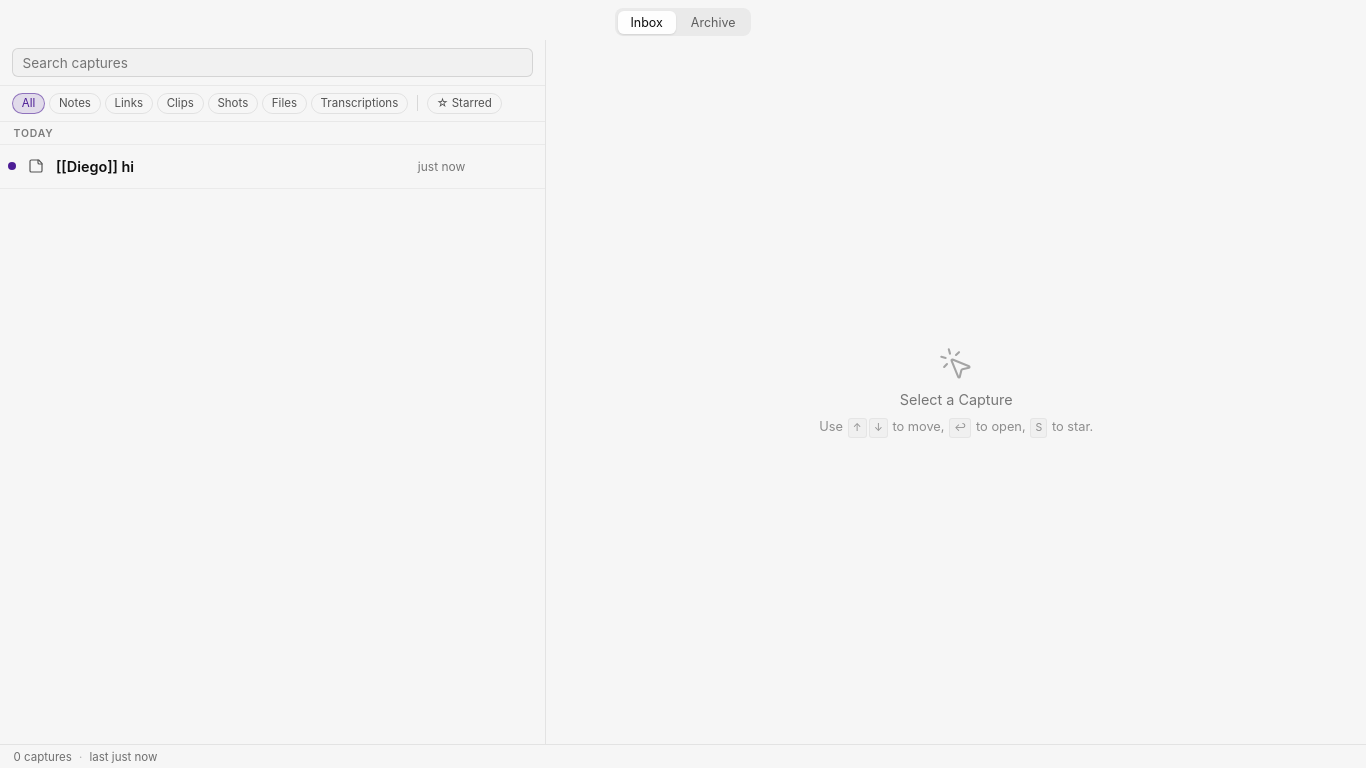
Scenario: inbox page › clicking a [ [Name]] chip swaps the list to a mention-filtered fetch
Click the option "[ [Diego]] hi just now" at x=95, y=166, box left=0, top=145, right=545, bottom=189
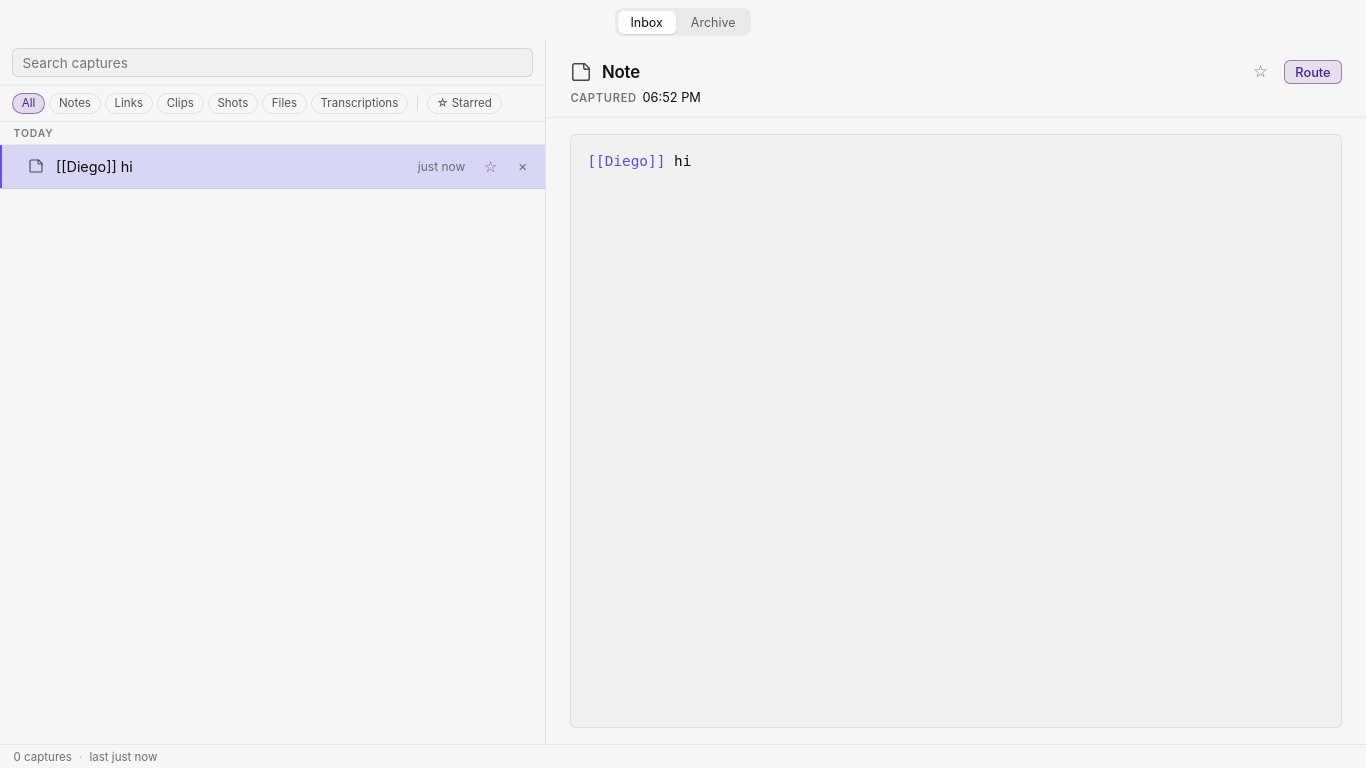
Click the button with test id "mention-chip" at x=626, y=162, box left=587, top=151, right=665, bottom=173
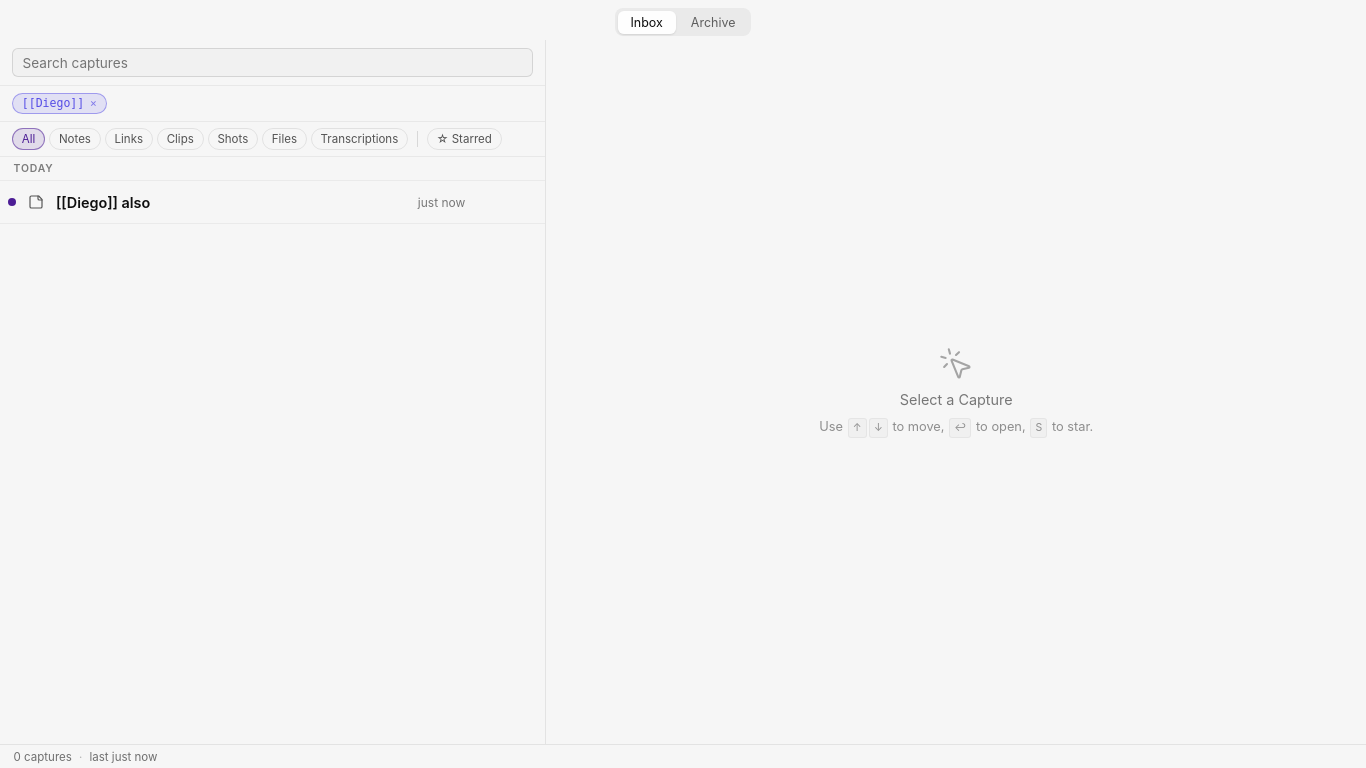
Expected: the button with test id "mention-pill-clear" shows "[ [Diego]]"
Click the button with test id "mention-pill-clear" at x=59, y=104, box left=12, top=93, right=107, bottom=114
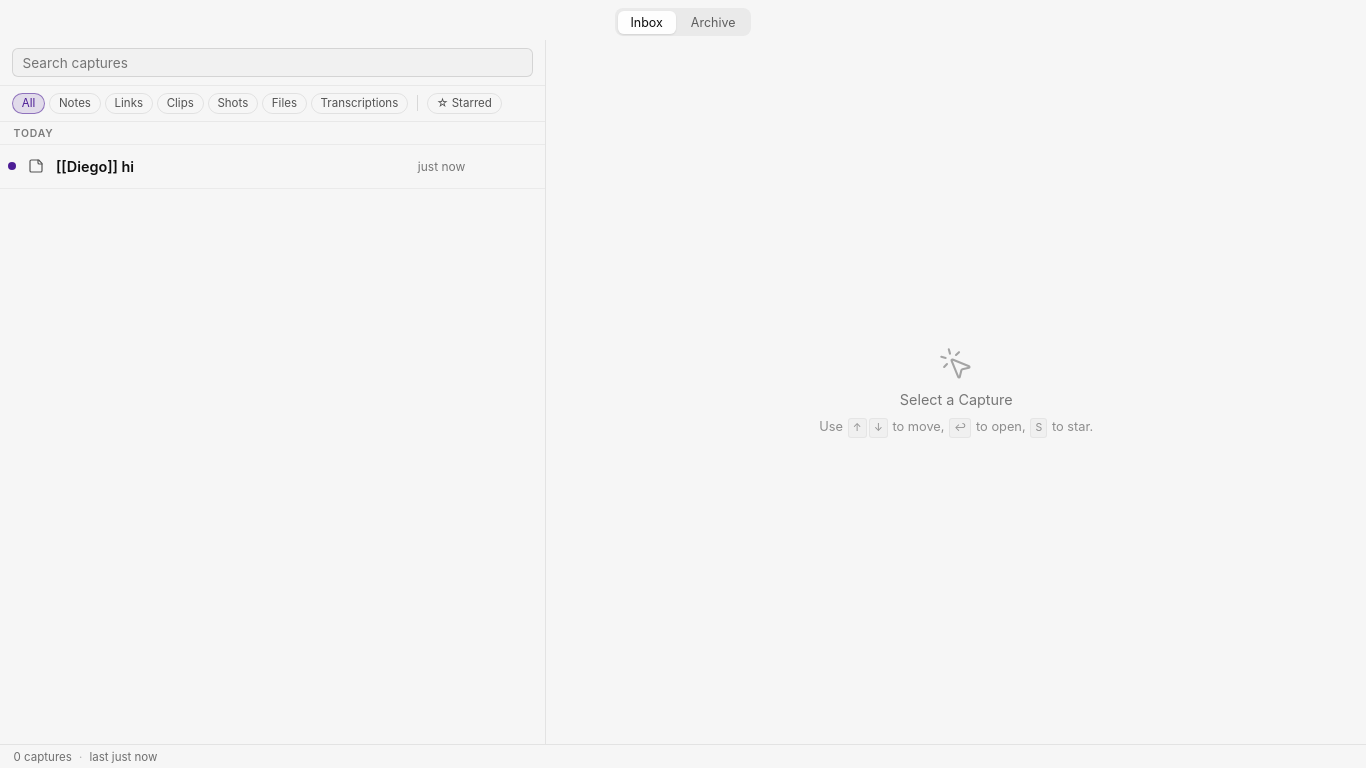
Expected: the button with test id "mention-pill-clear" is gone
